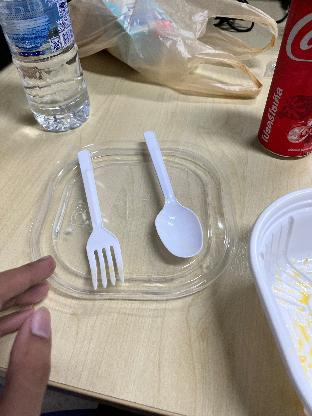Others: (64, 148, 134, 296), (135, 122, 207, 256)
Plastic Bottle: (4, 0, 92, 130)
